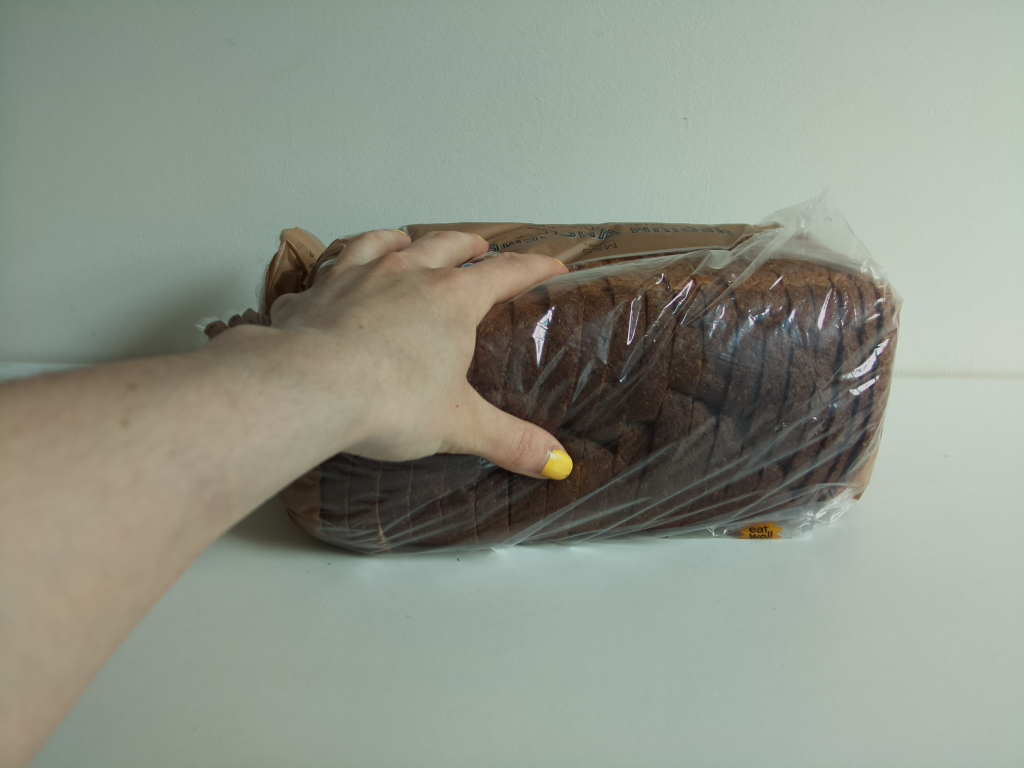bread: (198, 184, 910, 561)
